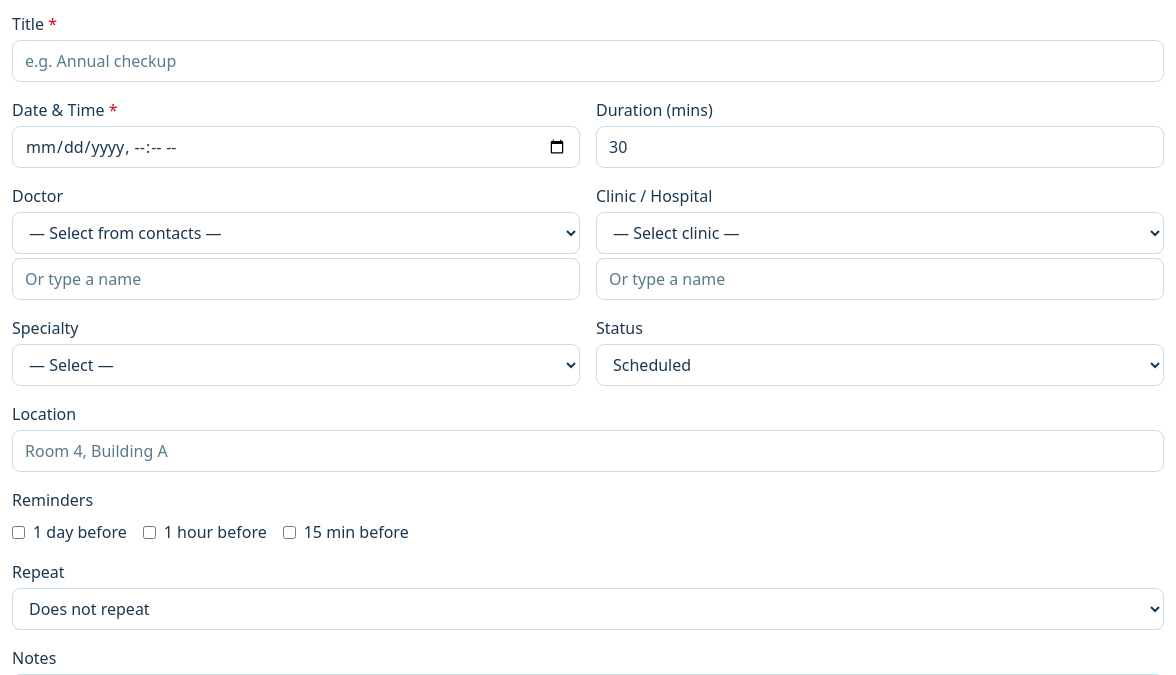
Test: AppointmentForm › Contact Picker › selecting a doctor contact populates doctor name field
Select "Dr. Alice (General Practice)" in the dropdown named "select doctor from contacts": [296, 233] box left=12, top=212, right=580, bottom=254
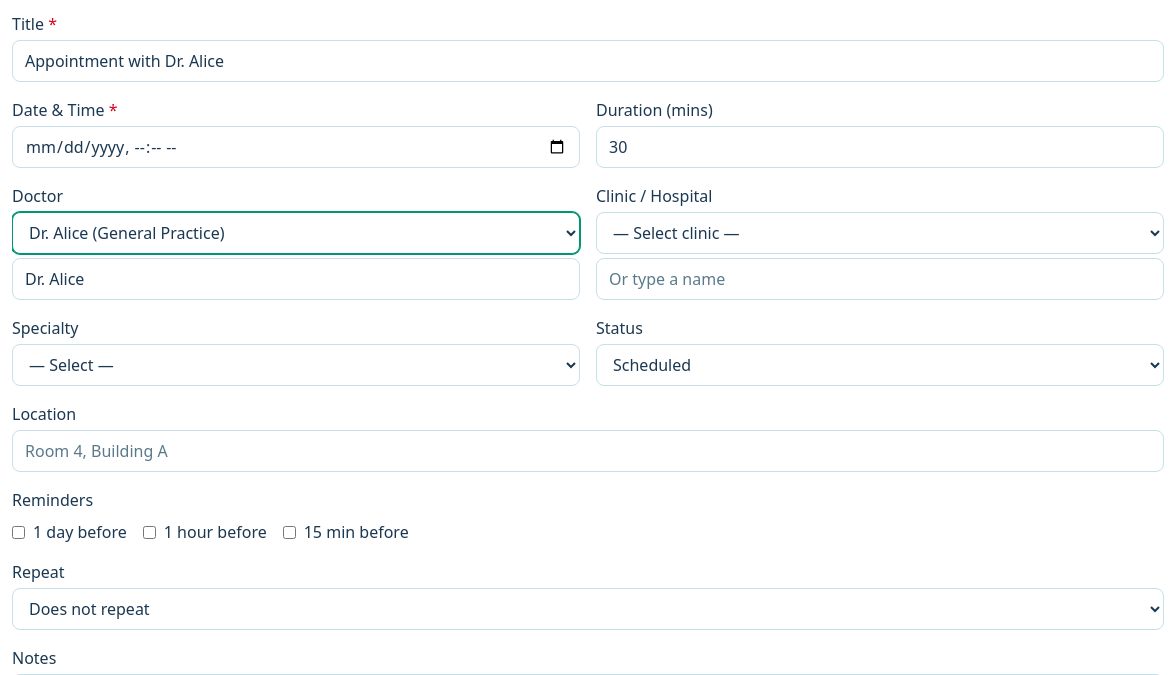
Expected: the field named "doctor name (free text)" holds "Dr. Alice", left=12, top=258, right=580, bottom=300
